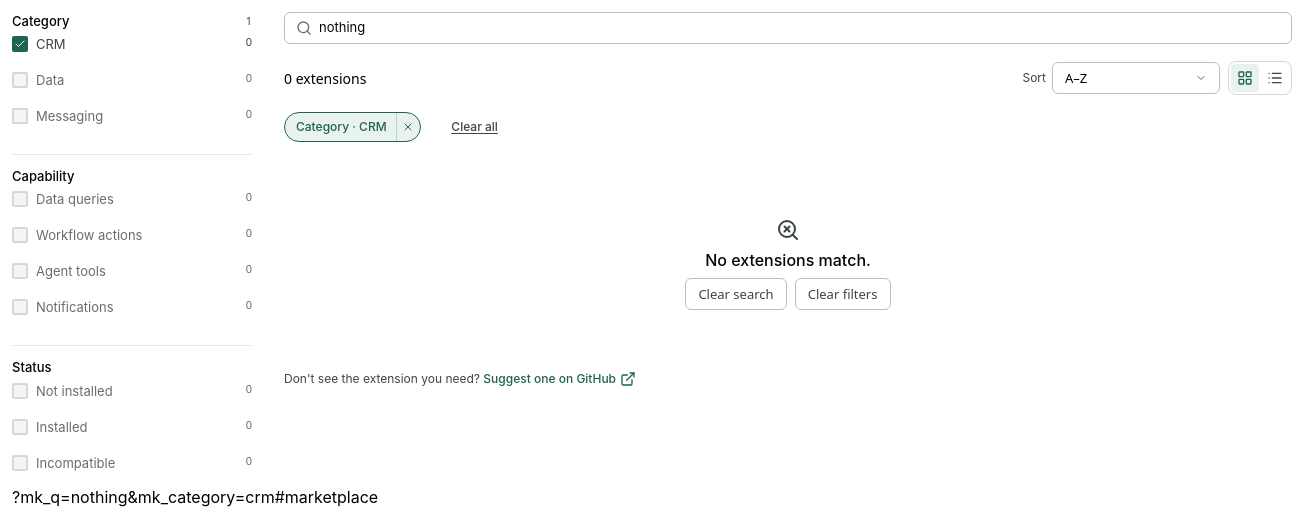
Test: no results offers to clear filters and to suggest an extension
Expected: the text "No extensions match." is shown, top-left (705, 248), bottom-right (871, 272)
Click the button "Clear filters": (843, 294) top-left (795, 278), bottom-right (891, 310)
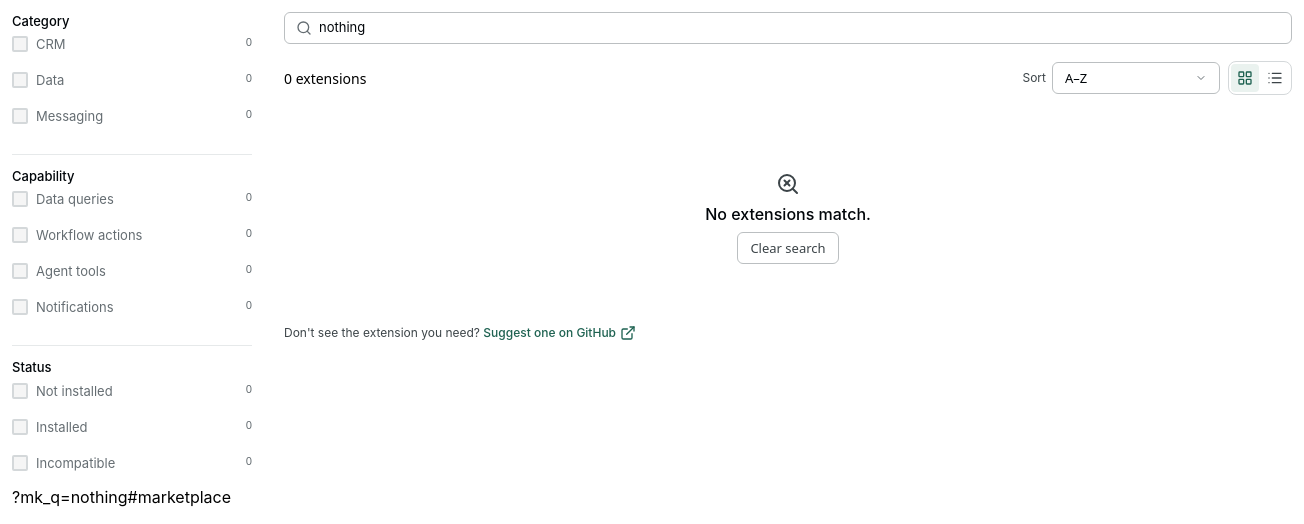
Now the text with test id "location" reads "?mk_q=nothing#marketplace", box top-left (12, 487), bottom-right (231, 507)
